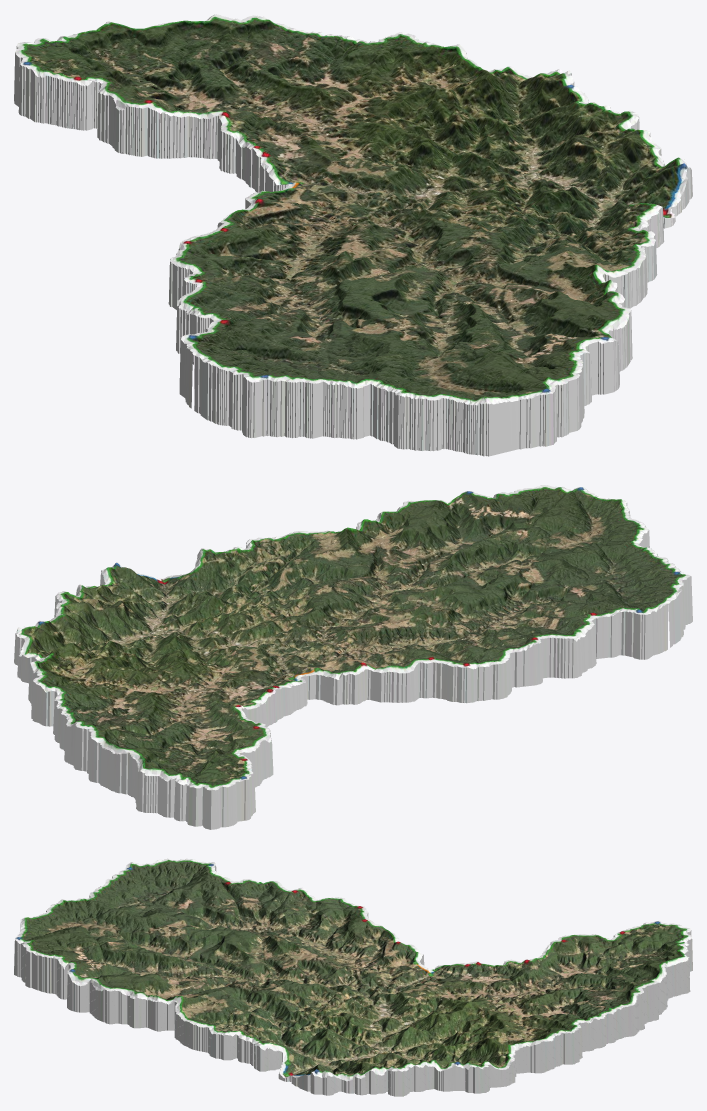
3 views of the same model, one above another, from view 1: azimuth 30°, elevation 25°; view 2: azimuth 150°, elevation 25°; view 3: azimuth 270°, elevation 25° (orthographic). The views are drawn at different scales.
Bounding box in the file's own units: 1 × 0.0918 × 1.44.
Materials: 1 (1 with a texture image).
